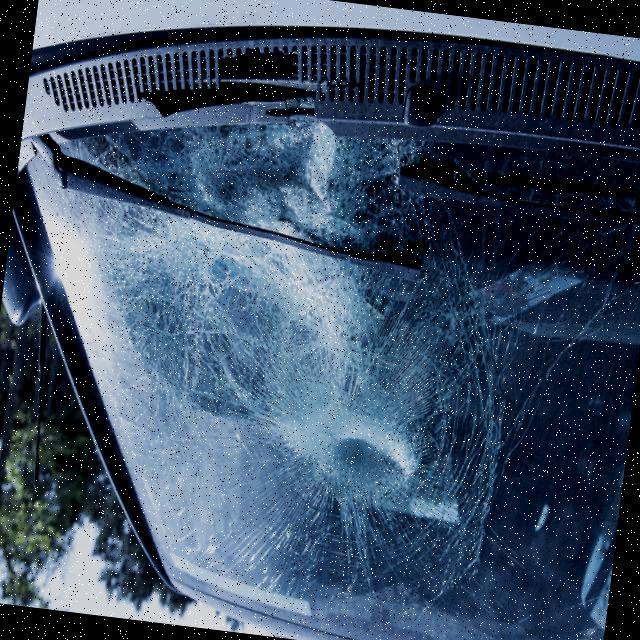Windshield: (80, 80, 528, 608)
